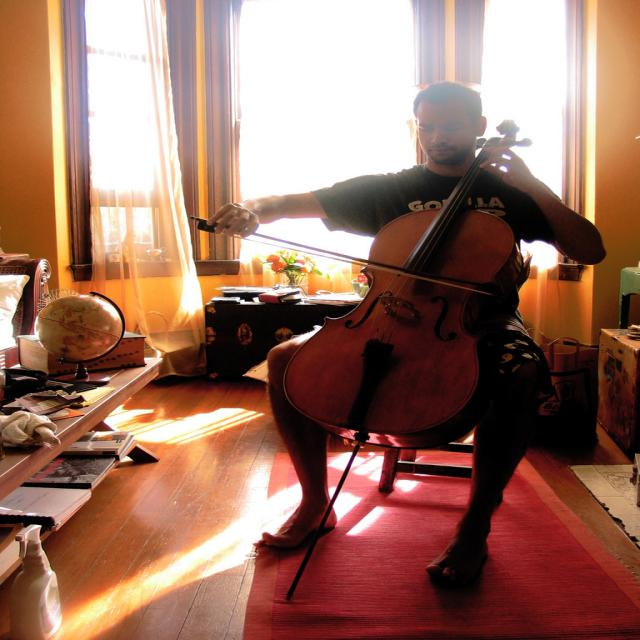cello: (278, 117, 537, 452)
